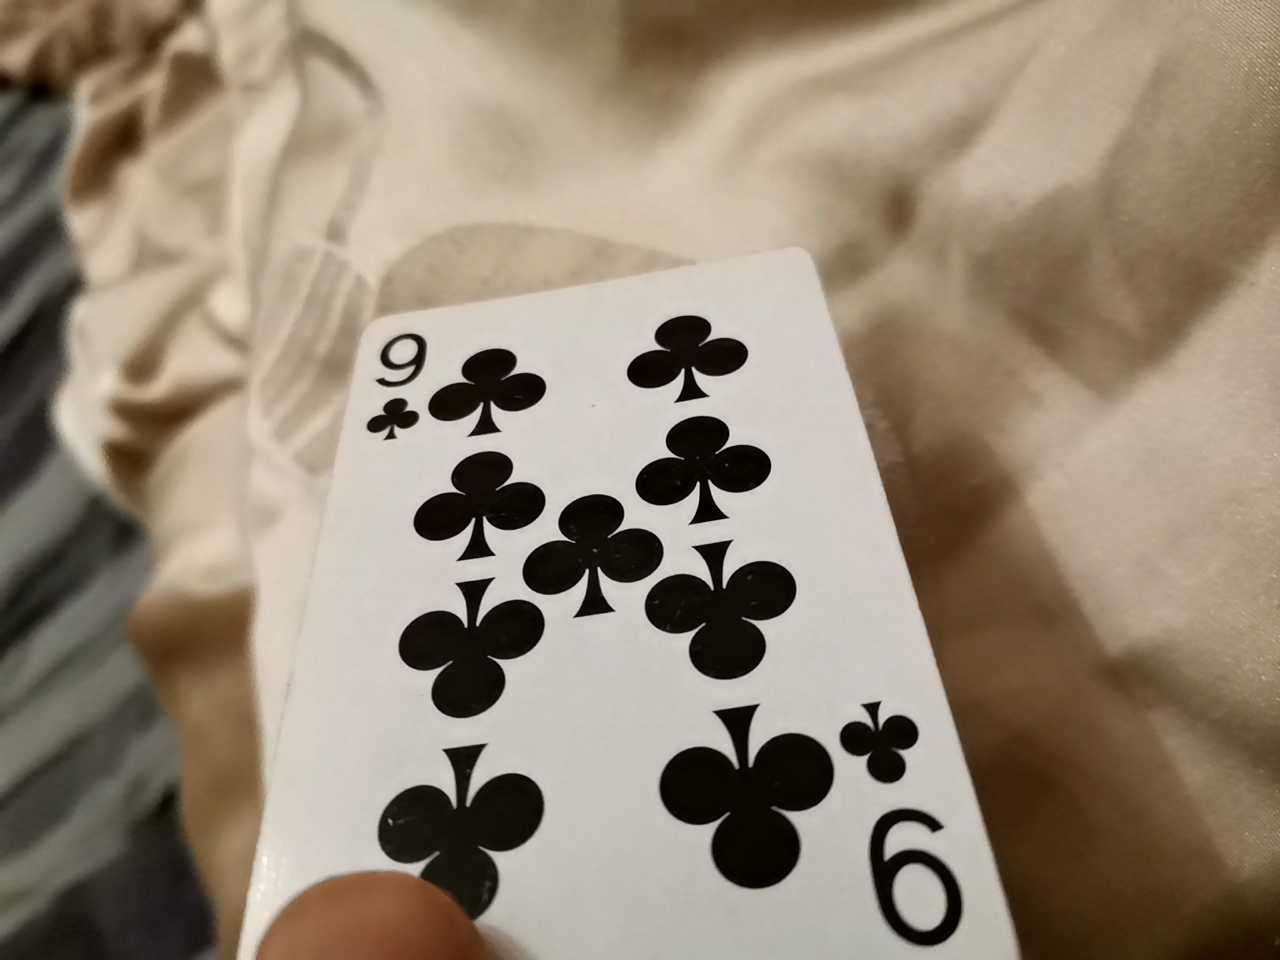mh 9: (218, 245, 999, 959)
